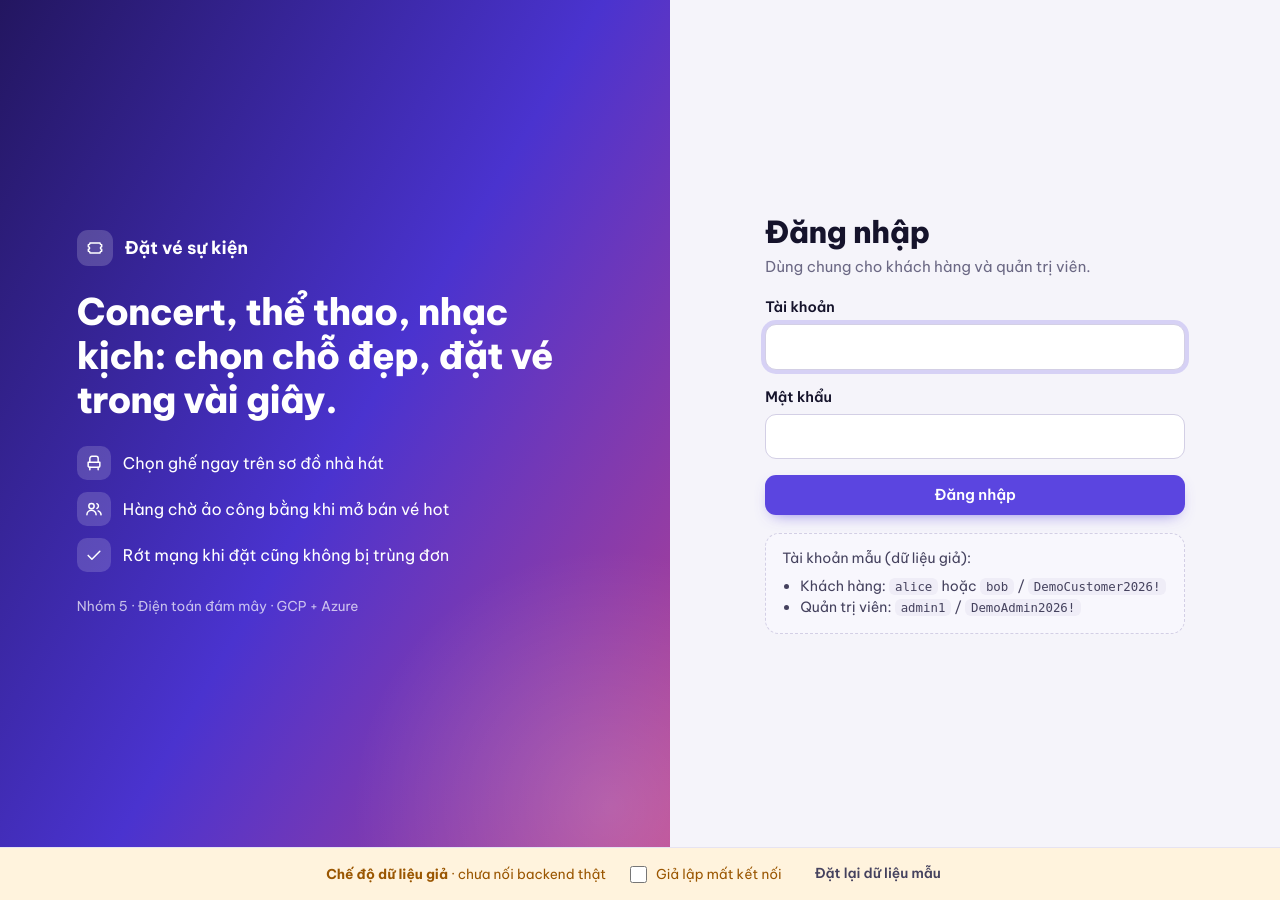
Test case: đăng nhập › báo lỗi khi bỏ trống và khi sai mật khẩu
The image size is (1280, 900).
Click the button "Đăng nhập". click: (975, 495)
box: [765,475,1185,515]
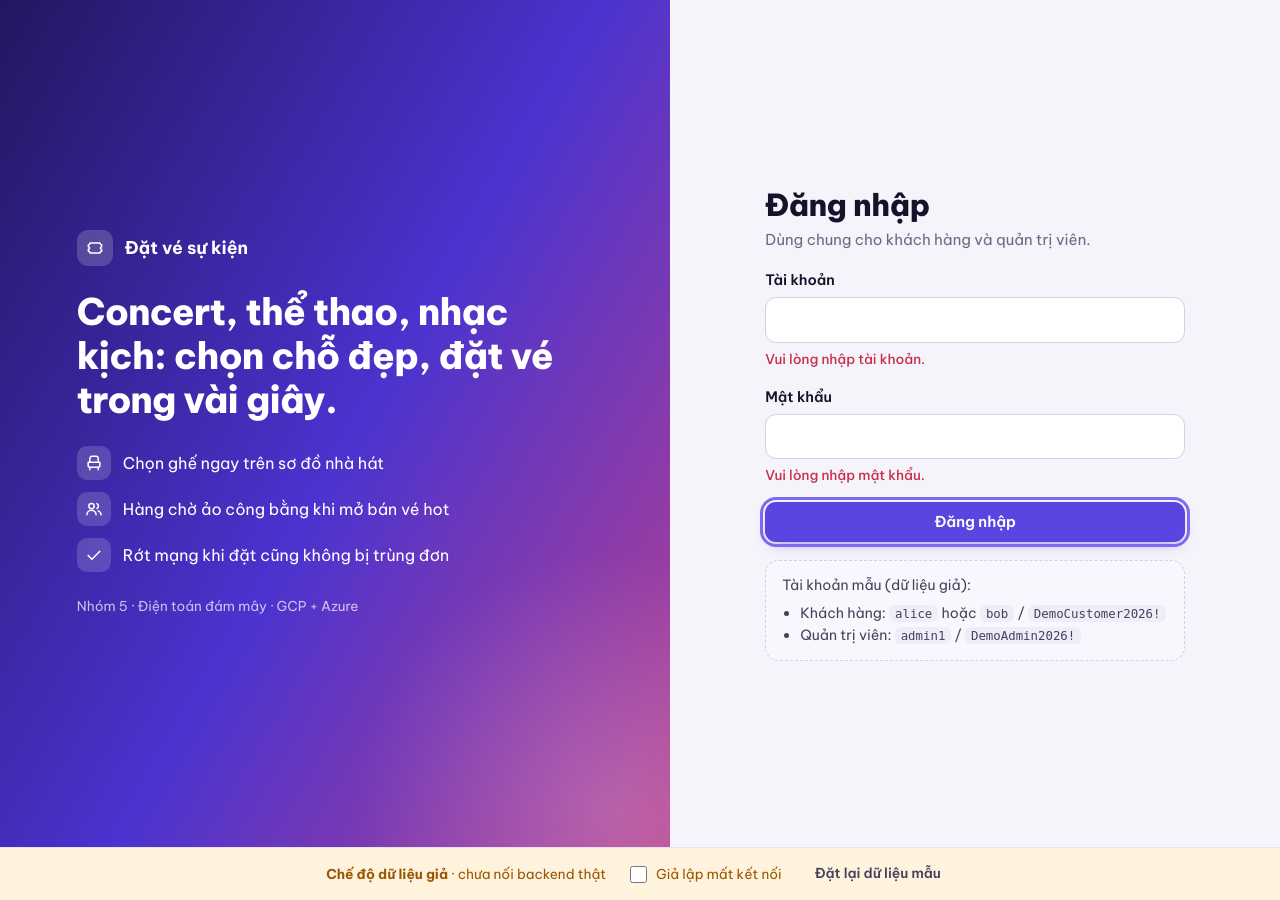
Expected: the text "Vui lòng nhập tài khoản." is shown, [765,350,925,368]
Expected: the text "Vui lòng nhập mật khẩu." is shown, [765,466,925,484]
Type "alice" into the field labelled "Tài khoản". click: (975, 320)
box: [765,297,1185,343]
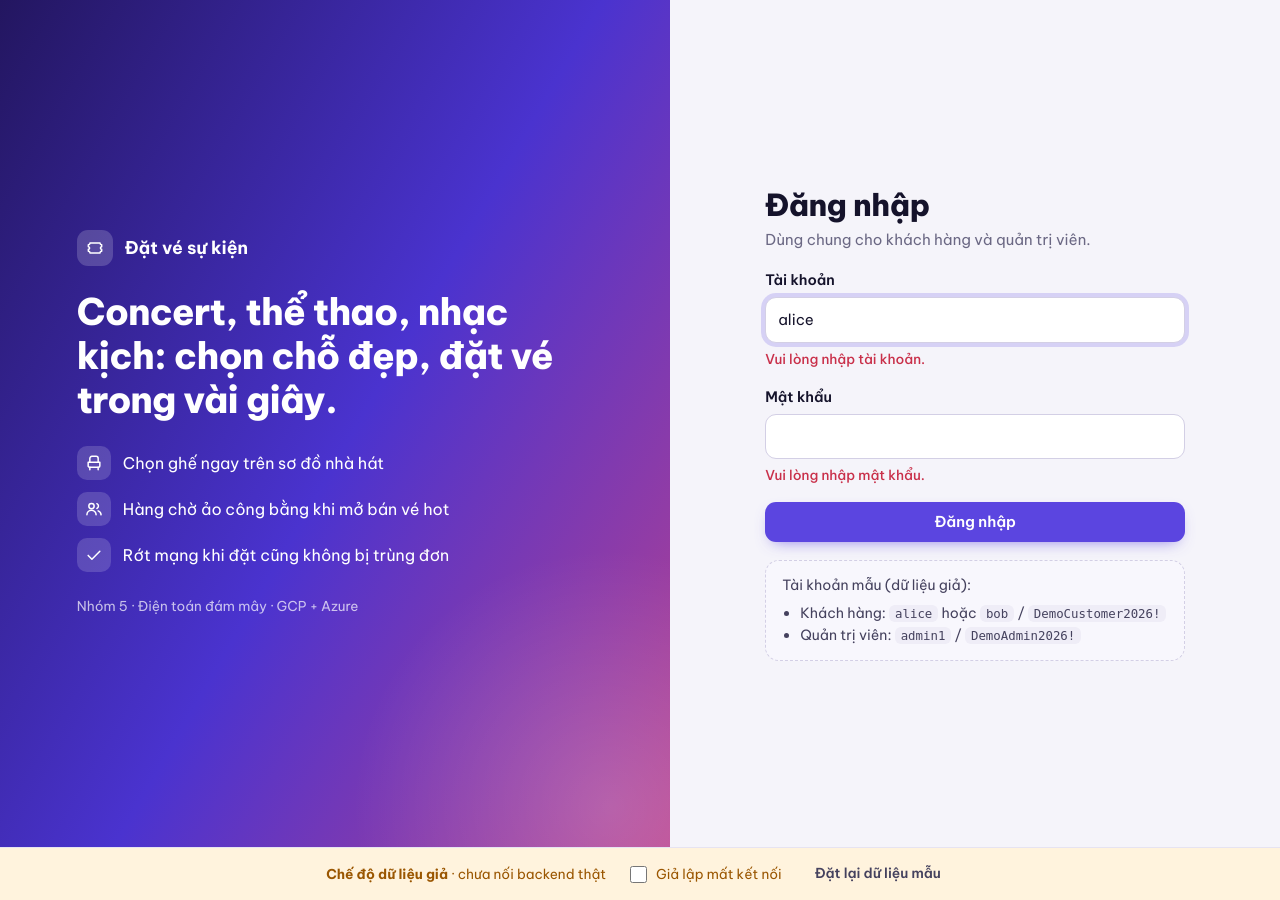
Type "sai-mat-khau" into the password field labelled "Mật khẩu". click: (975, 437)
box: [765,414,1185,459]
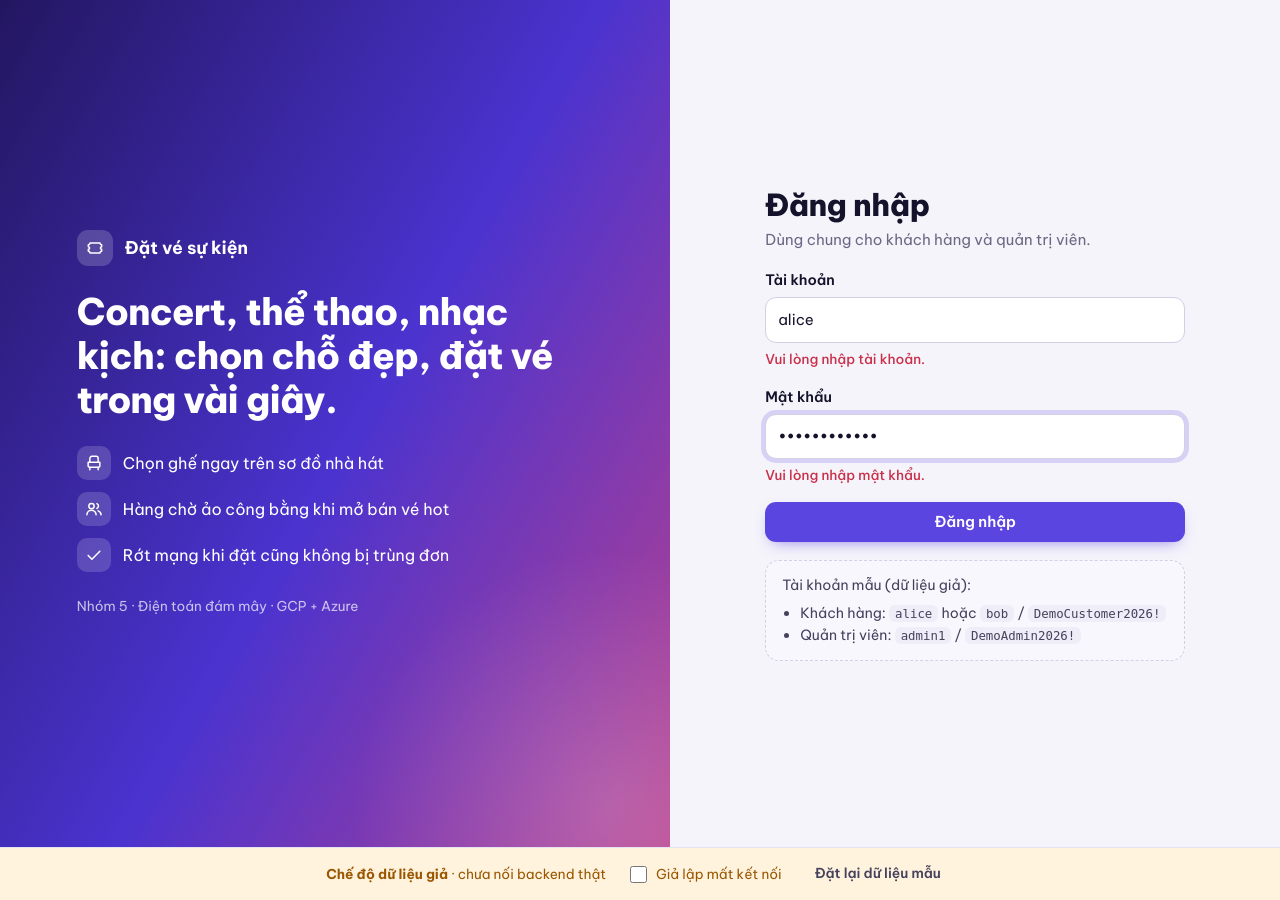
Click the button "Đăng nhập". click: (975, 522)
box: [765,502,1185,542]
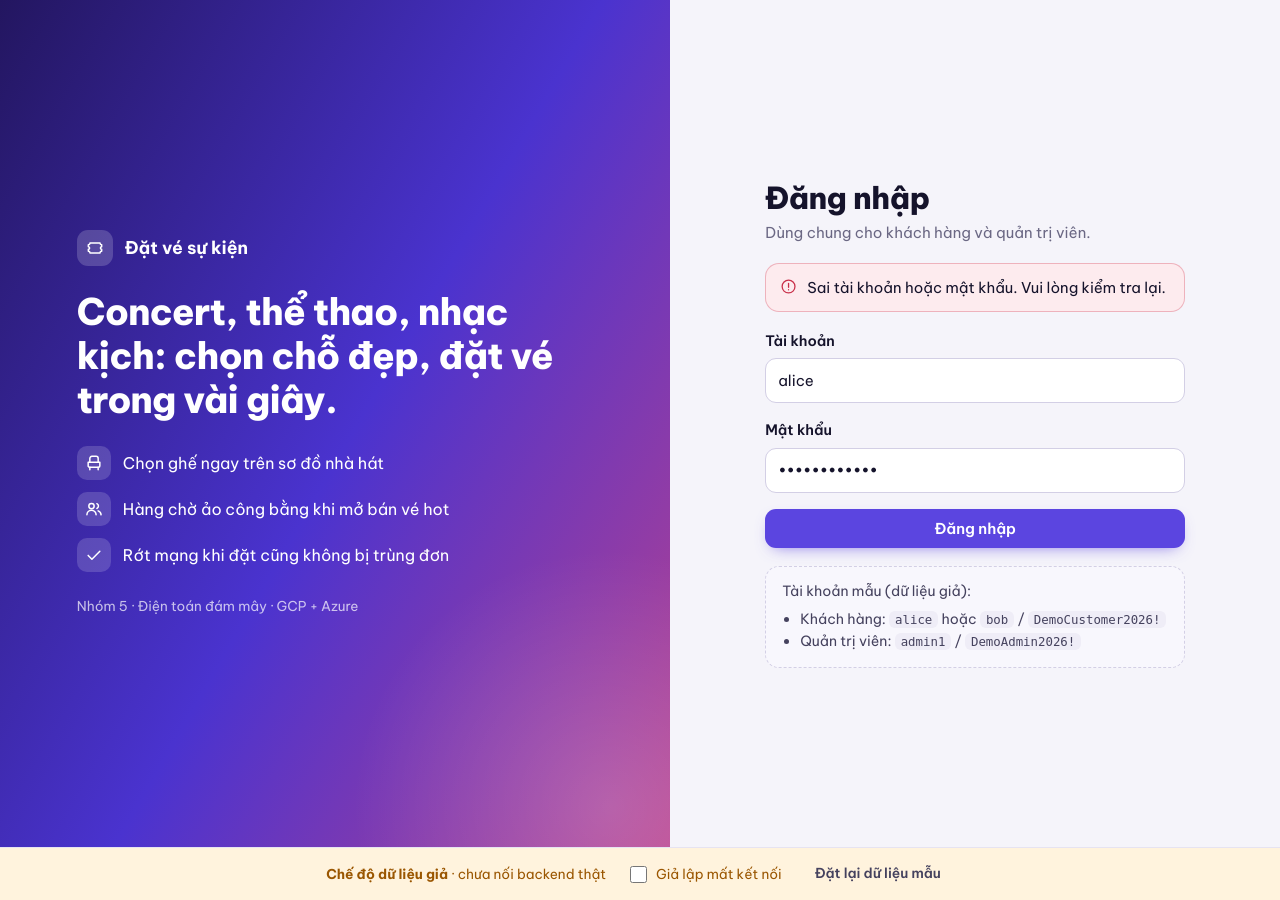
Expected: the text "Sai tài khoản hoặc mật khẩu. Vui lòng kiểm tra lại." is shown, [807,276,1170,299]
